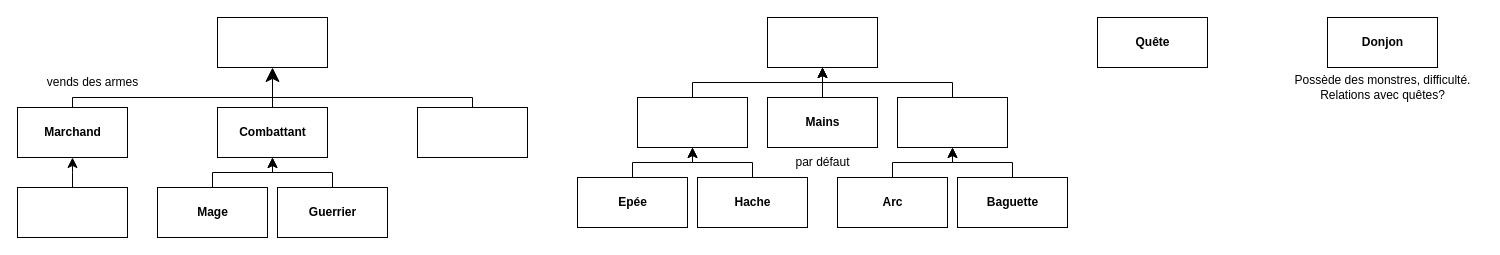
Some shapes in this 1500 by 255 pixel diagram are drawn without their labels. The centre of each missing label's shape, as x and y in pixels:
Arme: point 822,42
Distance: point 952,122
Forgeron: point 72,212
Monstre: point 472,132
Mélée: point 692,122
Personnage: point 272,42
